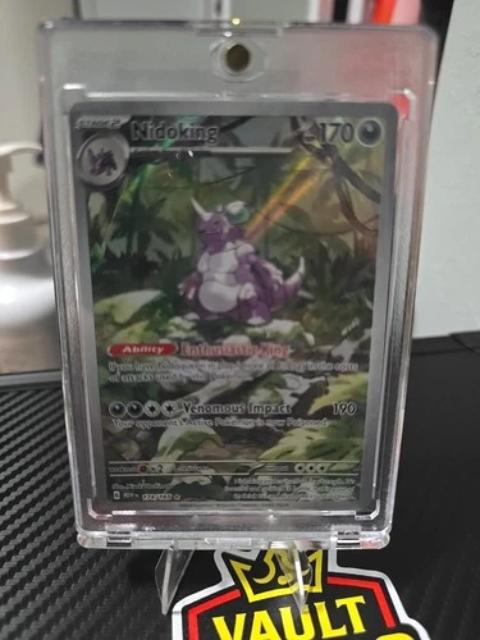Card: (63, 96, 401, 517)
Name: (124, 115, 224, 146)
